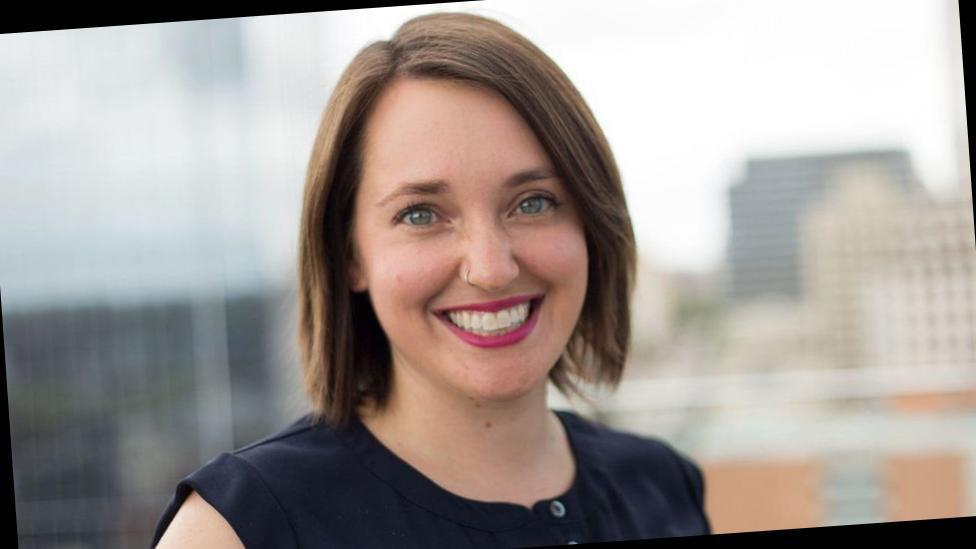Sober: (365, 114, 576, 373)
